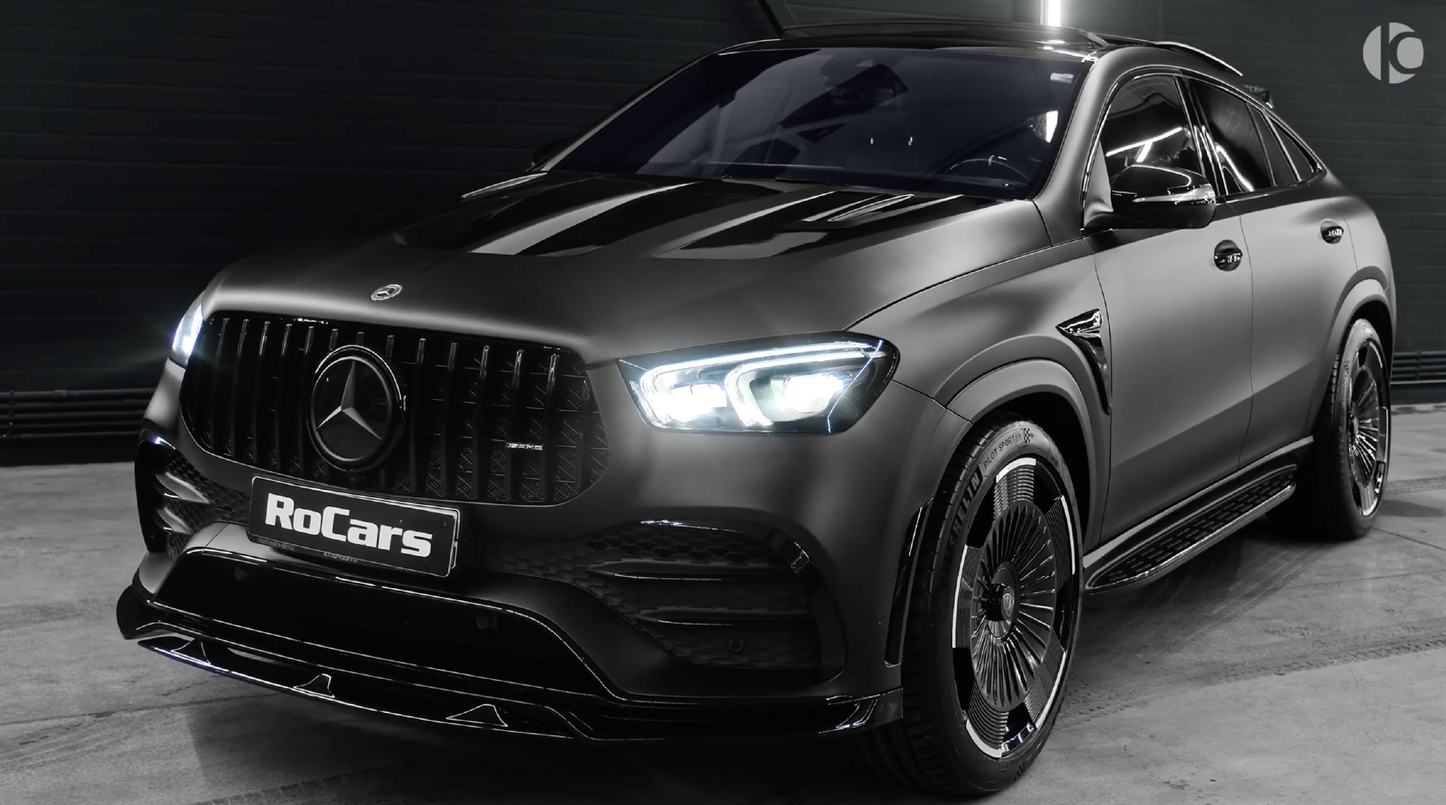other: (124, 6, 1399, 805)
